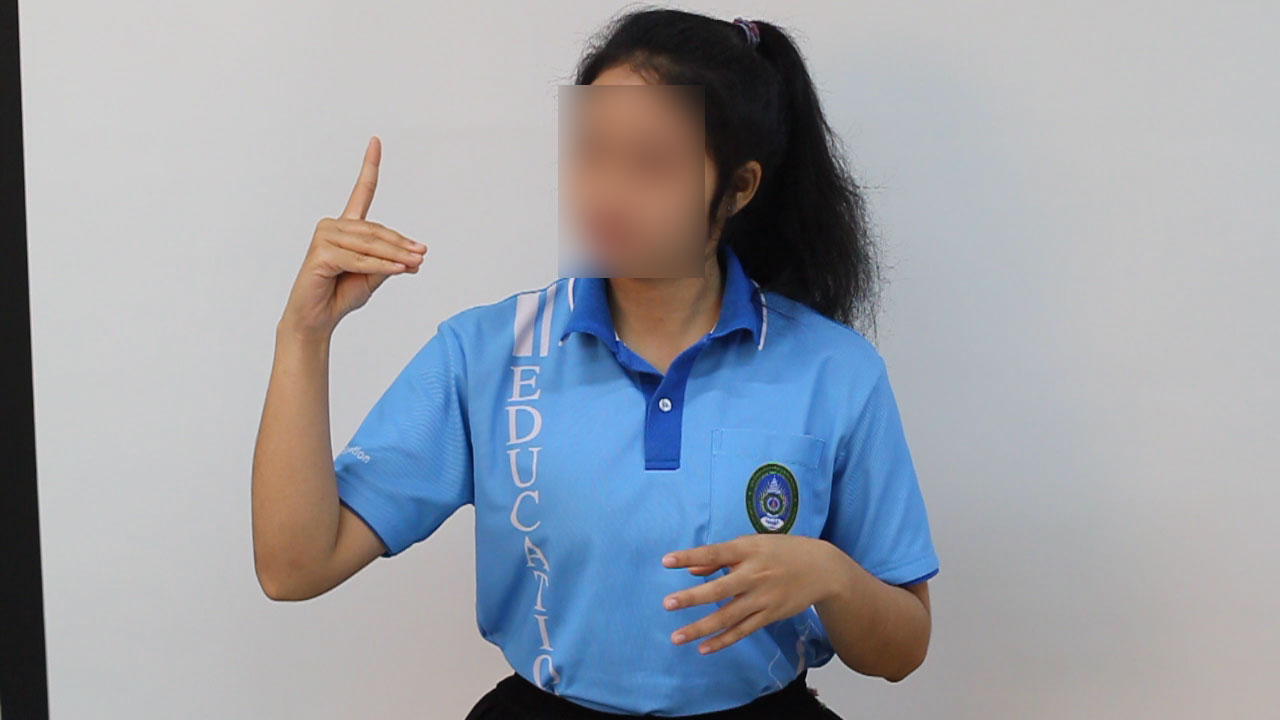dor: (272, 123, 443, 346)
